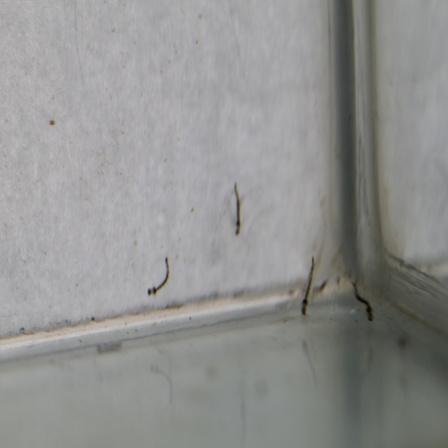Jentik-Nyamuk: (141, 255, 174, 297), (296, 254, 317, 319), (349, 280, 377, 326)
